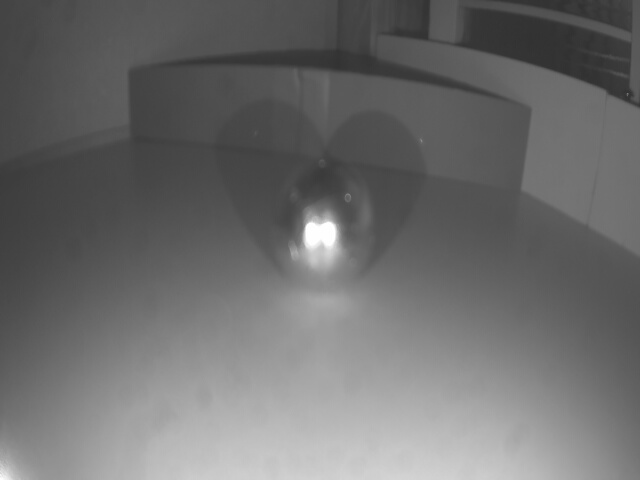Live: (263, 154, 386, 286)
Point: (125, 65, 530, 189)
